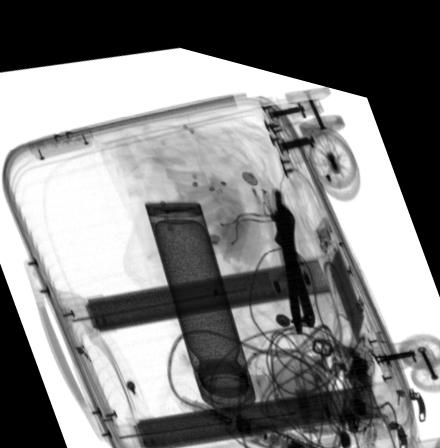Pliers: (273, 172, 315, 311)
Powerbank: (312, 198, 364, 324)
Wrench: (273, 185, 314, 310)
